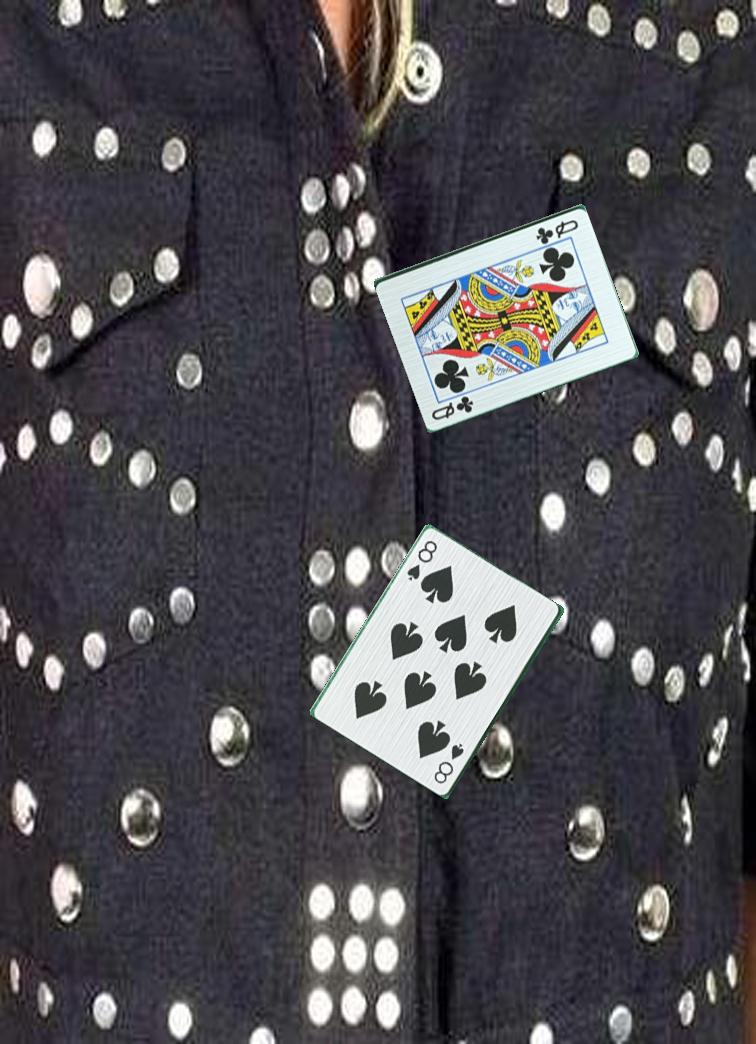8s: (403, 535, 446, 583), (430, 737, 467, 786)
qc: (428, 392, 477, 423), (532, 216, 581, 245)
